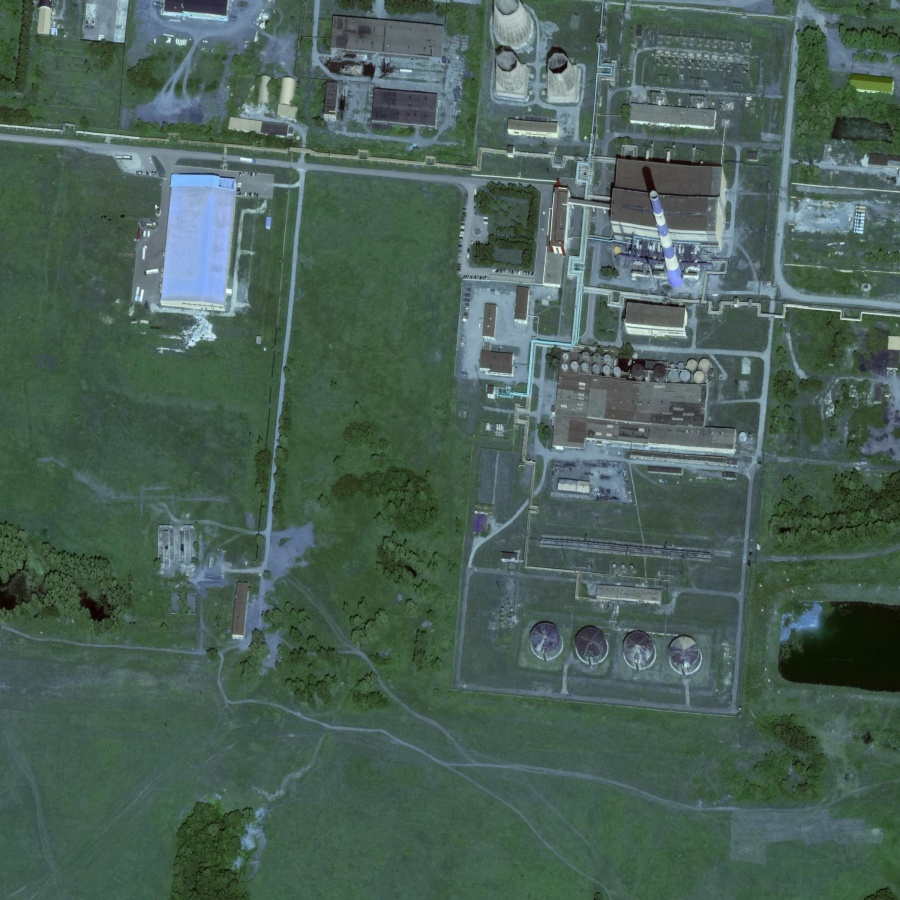PowerPlant: (523, 570, 734, 736)
